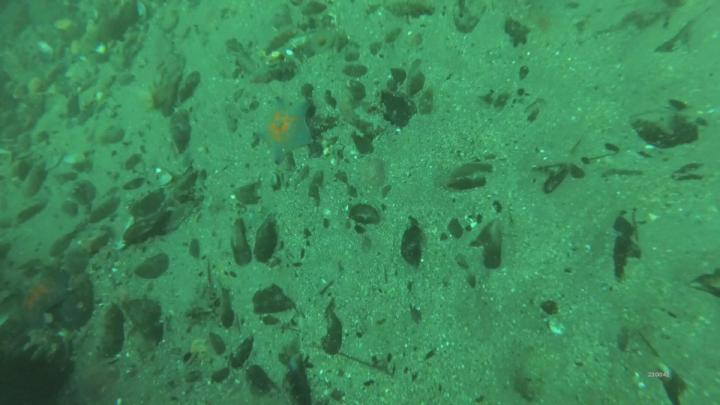holothurian: (259, 96, 311, 159), (15, 273, 70, 327)
